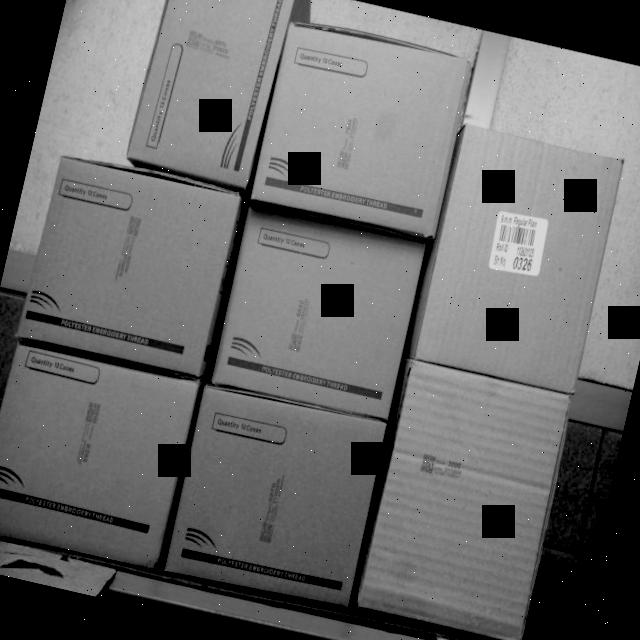box: (409, 121, 627, 399), (358, 368, 574, 640), (162, 374, 391, 617), (15, 150, 243, 382), (246, 18, 473, 236), (207, 189, 426, 414), (0, 339, 201, 570), (126, 0, 293, 189)
